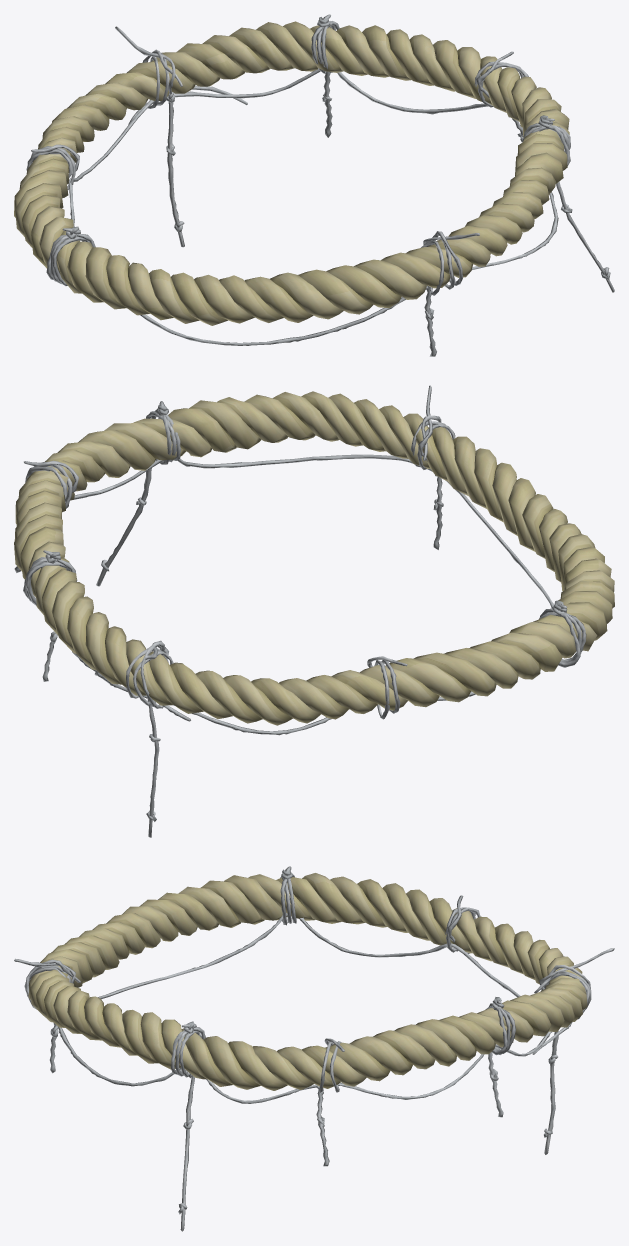
File: SM_ENV_KNFRST_StrawRope_I.FBX
The picture shows the model from 3 angles, top to bottom: view 1: azimuth 30°, elevation 25°; view 2: azimuth 150°, elevation 25°; view 3: azimuth 270°, elevation 25°; orthographic projection. The views are drawn at different scales.
Parts seen in each view (by area): view 1: SM_ENV_KNFRST_StrawRope_I; view 2: SM_ENV_KNFRST_StrawRope_I; view 3: SM_ENV_KNFRST_StrawRope_I.
Boxes of the visible parts, x1,y1,x2,y2 form: SM_ENV_KNFRST_StrawRope_I: (14, 14, 614, 356); SM_ENV_KNFRST_StrawRope_I: (14, 385, 614, 837); SM_ENV_KNFRST_StrawRope_I: (14, 866, 614, 1231).
Bounding box in the file's own units: 1031 × 434 × 1105.
